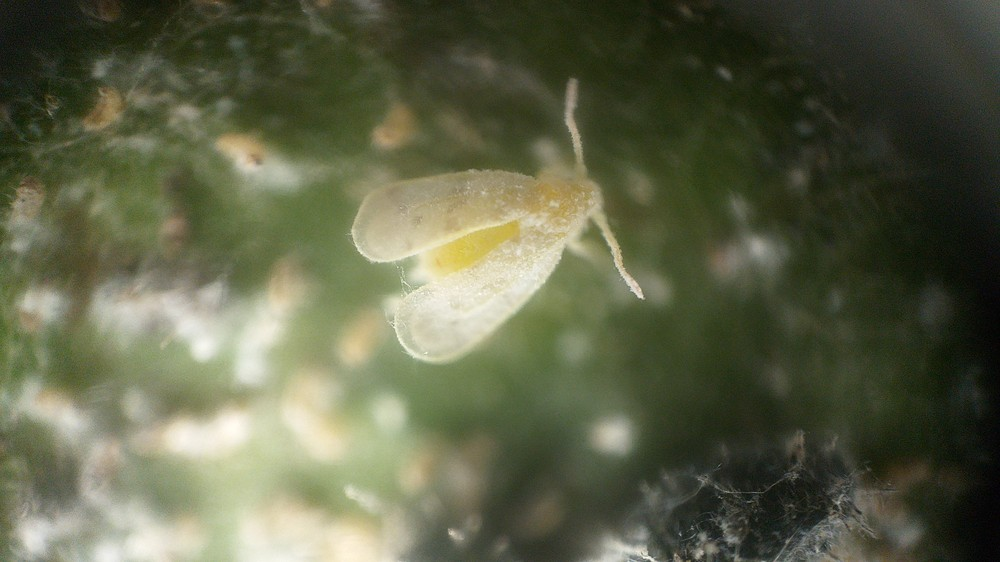Mosca Blanca: (336, 66, 675, 395)
